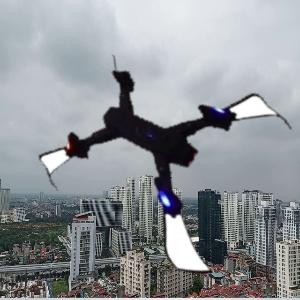drone: (66, 41, 283, 258)
